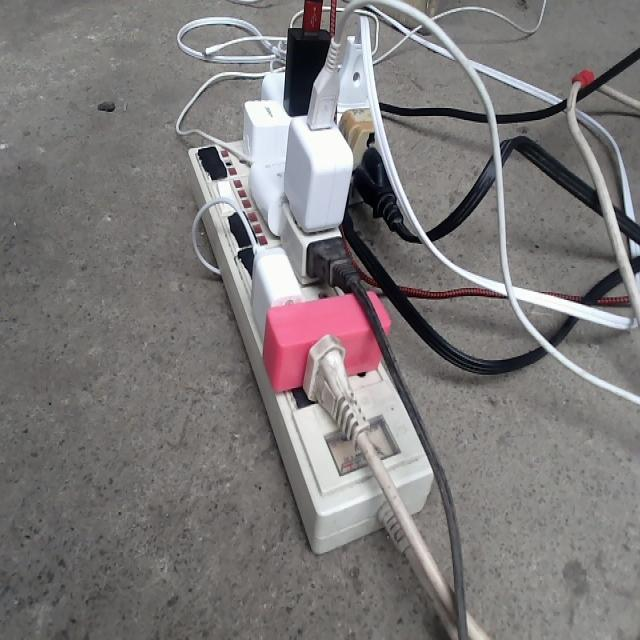-: (185, 27, 433, 550)
